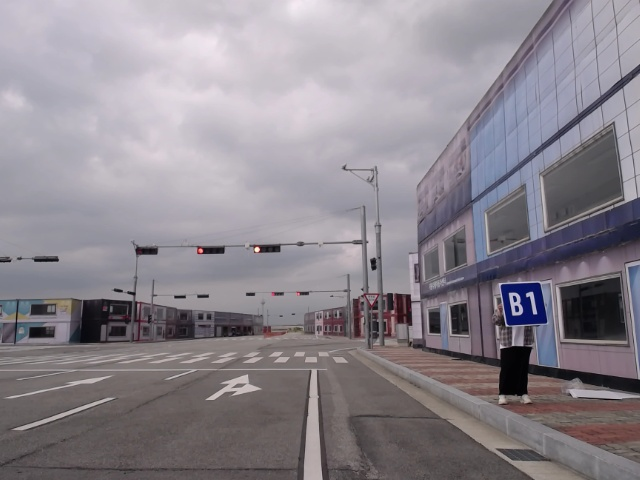delivery_b1: (499, 282, 549, 326)
red_4: (197, 246, 225, 254), (253, 245, 280, 253), (272, 292, 284, 296), (297, 292, 309, 296)
